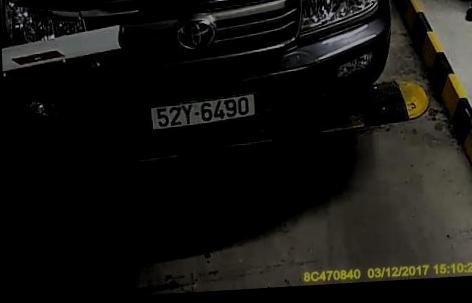License_Plate: (149, 97, 256, 128)
